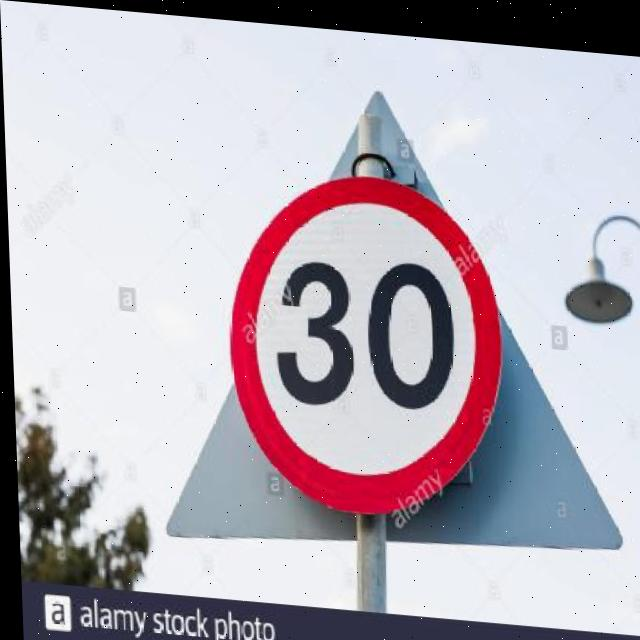Speed limit 30: (218, 156, 511, 525)
